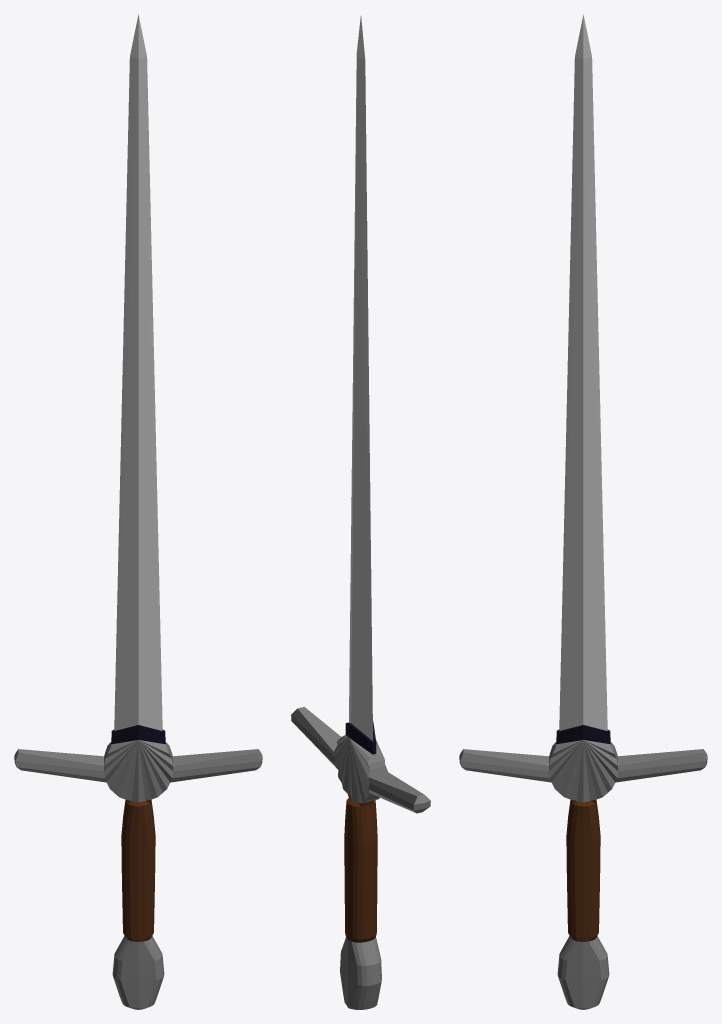
The model's file is Sword.glb.
3 renders of one model, left to right at view 1: azimuth 90°, elevation 25°; view 2: azimuth 210°, elevation 25°; view 3: azimuth 270°, elevation 25°, orthographic.
Parts seen in each view (by area): view 1: Vert.002; view 2: Vert.002; view 3: Vert.002.
Boxes of the visible parts, left/top/right/bottom form: Vert.002: left=14, top=14, right=262, bottom=1009; Vert.002: left=291, top=16, right=430, bottom=1009; Vert.002: left=459, top=14, right=707, bottom=1009.
Bounding box in the file's own units: 0.1881 × 6.88 × 1.56.
